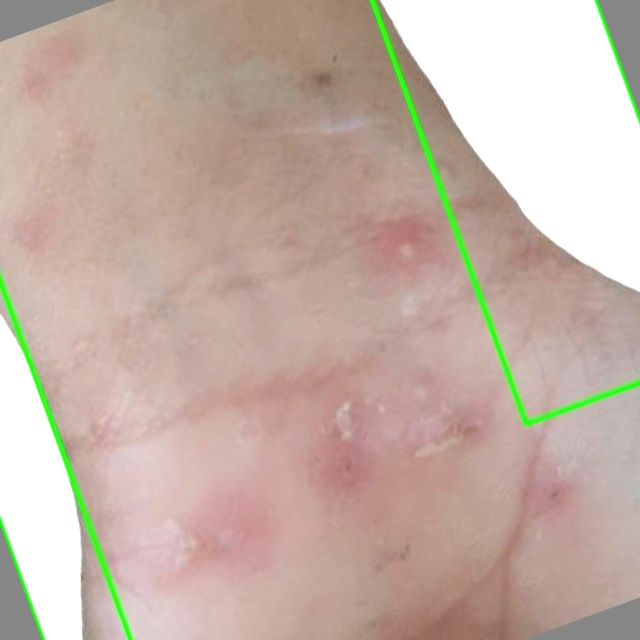Scabies: (372, 0, 639, 423)
